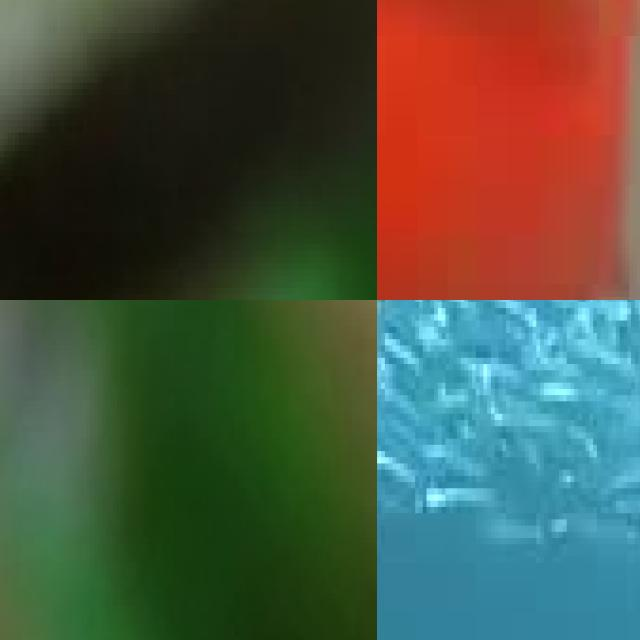fish: (0, 0, 377, 300), (377, 0, 640, 300)
